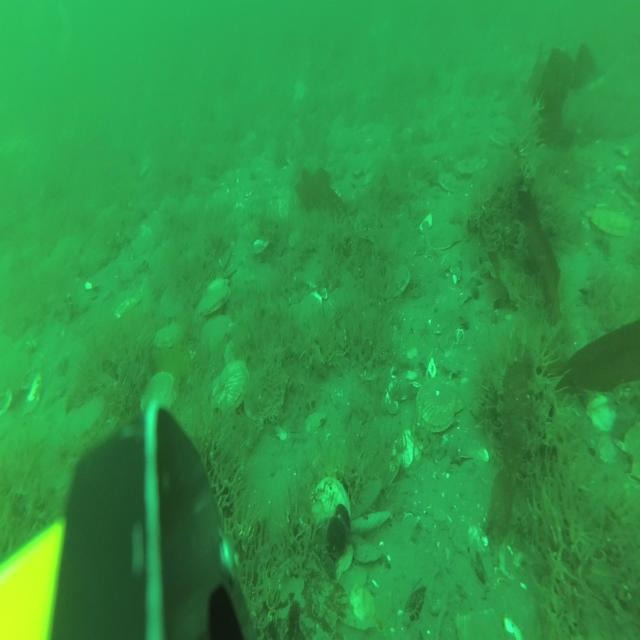scallop: (416, 371, 463, 434), (312, 475, 353, 543), (211, 363, 251, 417), (203, 315, 237, 361), (591, 202, 627, 243), (144, 372, 177, 416), (426, 219, 464, 255), (196, 283, 230, 323), (385, 259, 411, 300), (155, 322, 186, 353), (456, 152, 488, 180), (438, 168, 458, 194)
